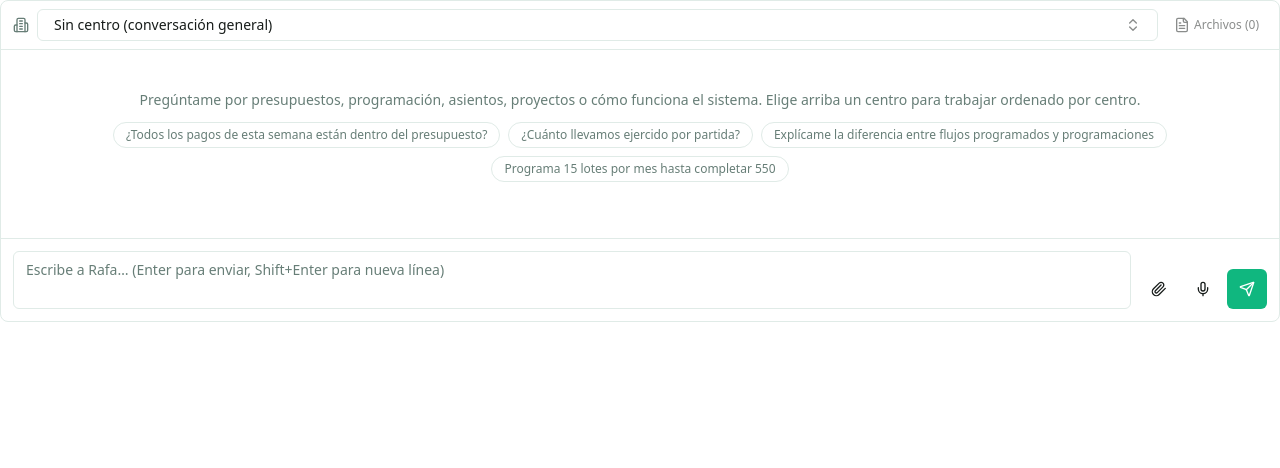
Test case: chat de Rafa › envía el mensaje con el contexto de pantalla, muestra la respuesta y confirma con la huella presentada
The image size is (1280, 468).
Later steps or results of the test are not shown.
Replace the text in the text box with placeholder "Escribe a Rafa" with "Programa las rentas" at (572, 280), box [13,251,1131,309]
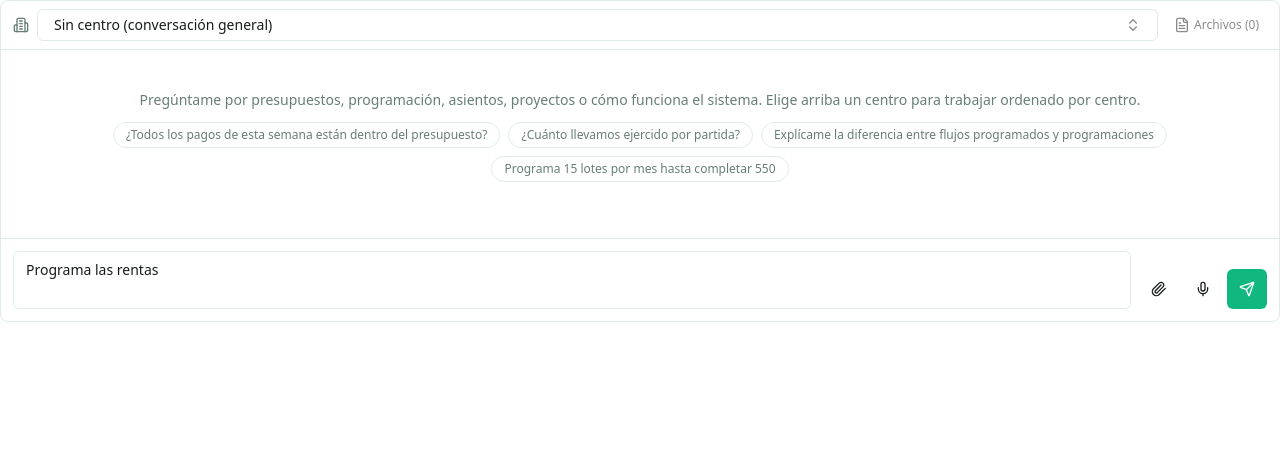
Click the button named "Enviar" at (1247, 289), box [1227,269,1267,309]
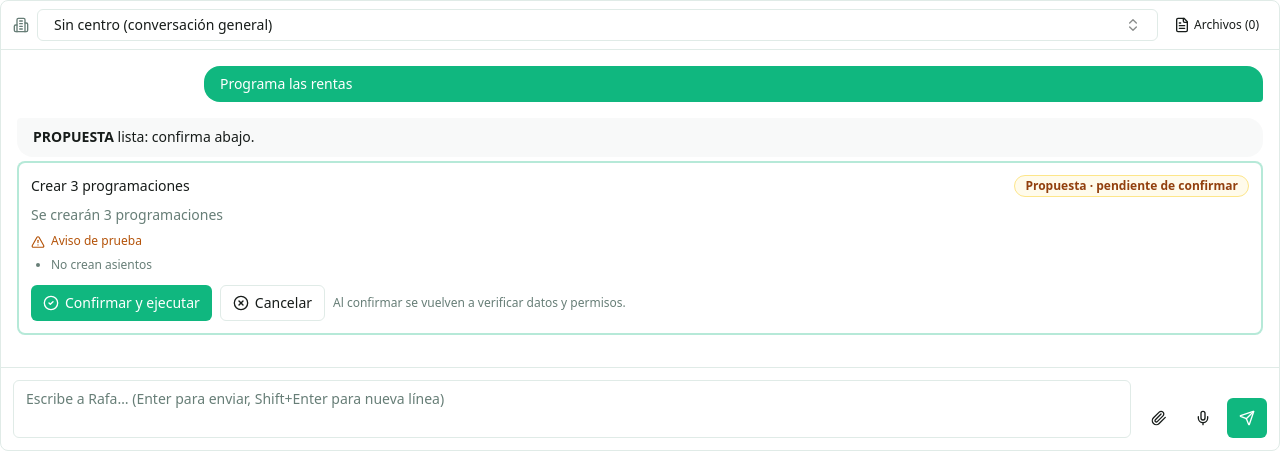
Expected: the text "PROPUESTA" is shown, [33,127,114,146]
